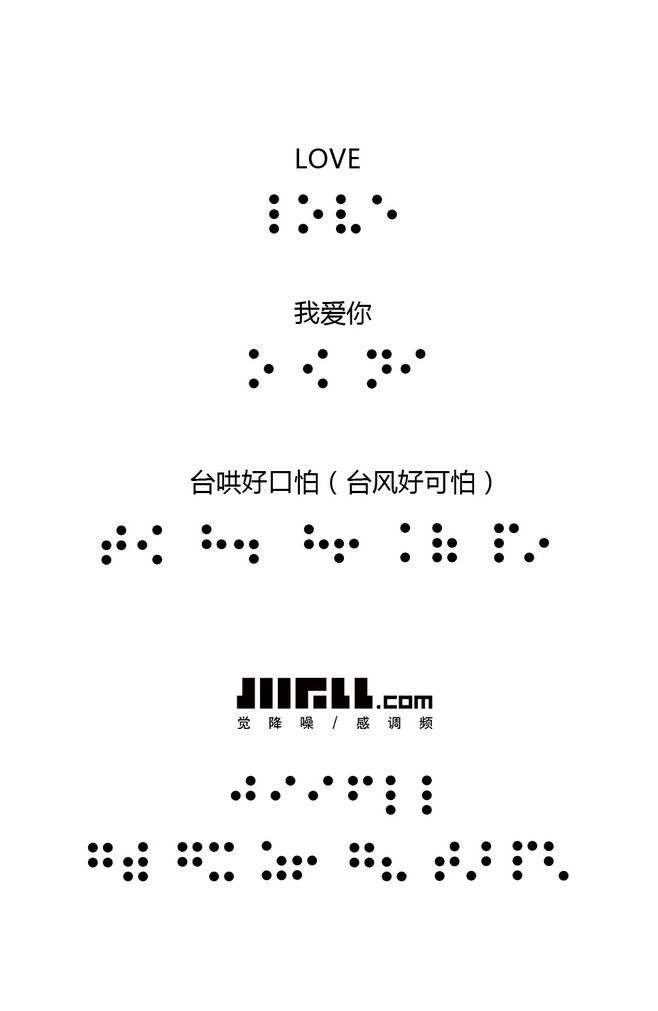Braille: (267, 193, 296, 236), (297, 193, 325, 236), (371, 194, 399, 237), (247, 348, 275, 390), (348, 841, 376, 883), (302, 347, 329, 390), (366, 349, 394, 390), (307, 774, 335, 815), (433, 841, 461, 882), (335, 194, 362, 236), (208, 841, 235, 883), (260, 840, 287, 882), (136, 525, 164, 565), (398, 523, 426, 563), (303, 523, 330, 564), (385, 775, 412, 816), (465, 841, 492, 882), (543, 841, 570, 882), (382, 840, 407, 884), (101, 525, 127, 567), (348, 775, 374, 817), (177, 841, 203, 883), (200, 524, 227, 564), (431, 523, 458, 563), (511, 841, 538, 881), (234, 524, 260, 565), (334, 524, 360, 565), (494, 522, 520, 563), (524, 523, 550, 564), (421, 775, 447, 816), (292, 840, 318, 881), (401, 348, 426, 390), (123, 842, 149, 882), (87, 842, 114, 880), (231, 775, 257, 814), (271, 774, 296, 814)
